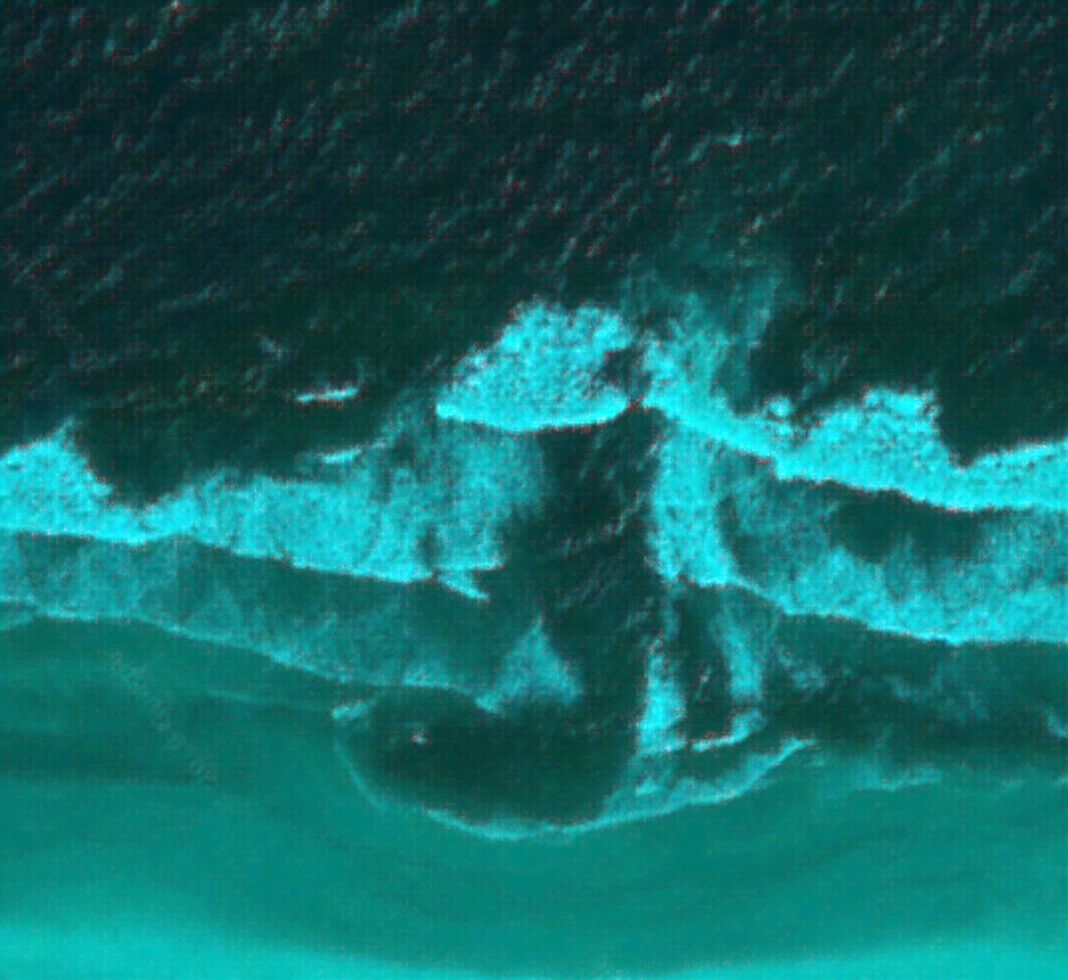rip_current: (434, 239, 707, 711)
